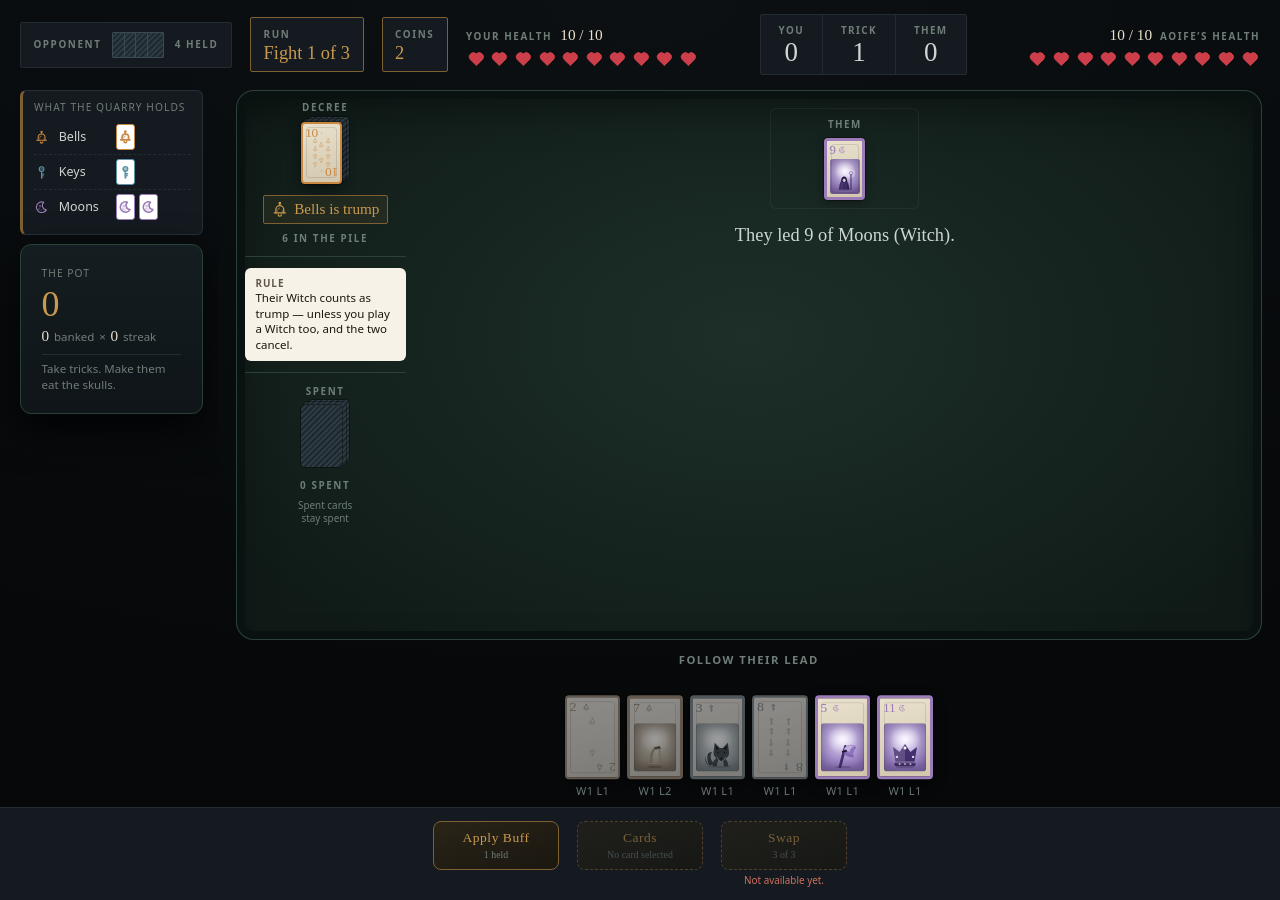
WarCouncilRound — the action bar (DLR-114) › mid-trick: Apply Buff stays enabled and opens the panel, while an ordinary buff card is fenced with "not between tricks" (DLR-114 door widening)
The width and height of the screenshot is (1280, 900).
Click the button "Apply Buff 1 held": (496, 845) x1=433 y1=821 x2=559 y2=870
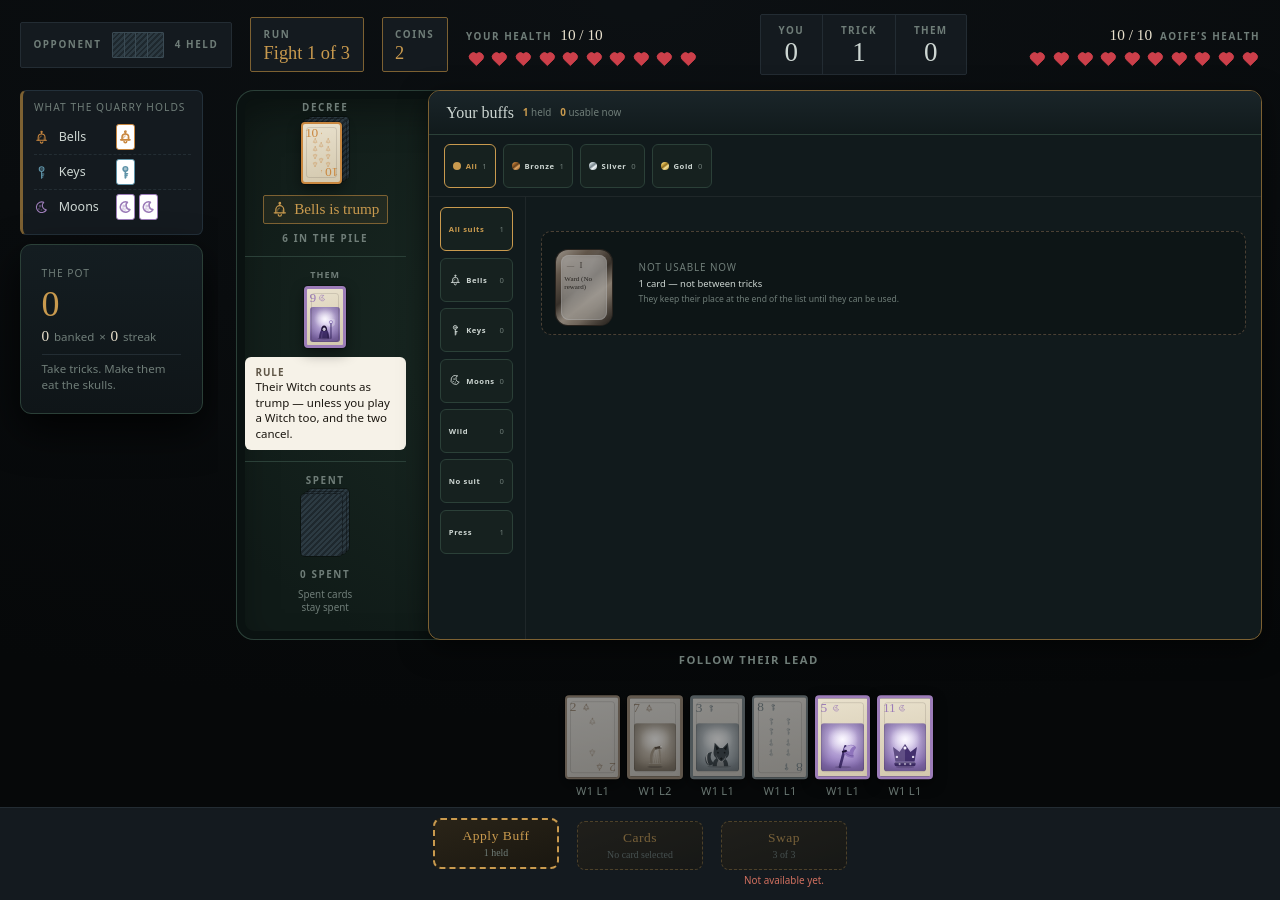
Result: the button "I Ward (No reward)" is disabled at x1=556 y1=250 x2=612 y2=325
Result: the text "1 card — not between tricks" is shown at x1=638 y1=277 x2=762 y2=290
